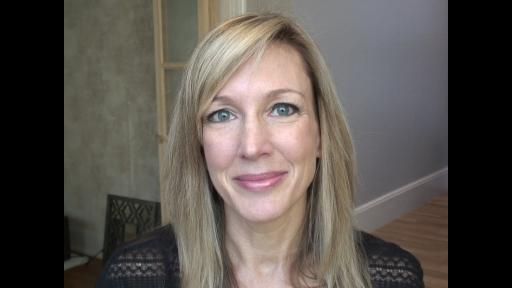left_eye: (269, 103, 304, 120)
left_lip_corner: (283, 169, 294, 179)
right_eye: (206, 109, 239, 126)
right_lip_corner: (229, 176, 240, 185)
